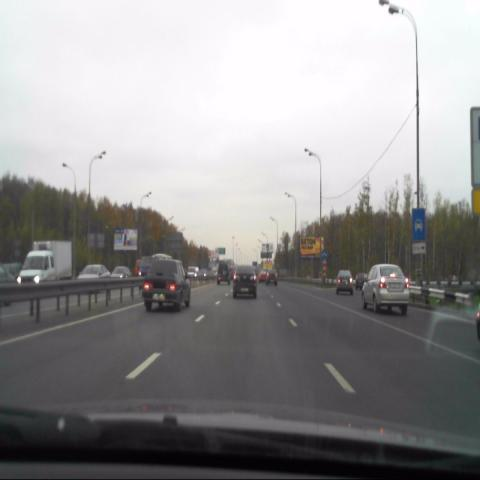5_3: (412, 209, 424, 241)
